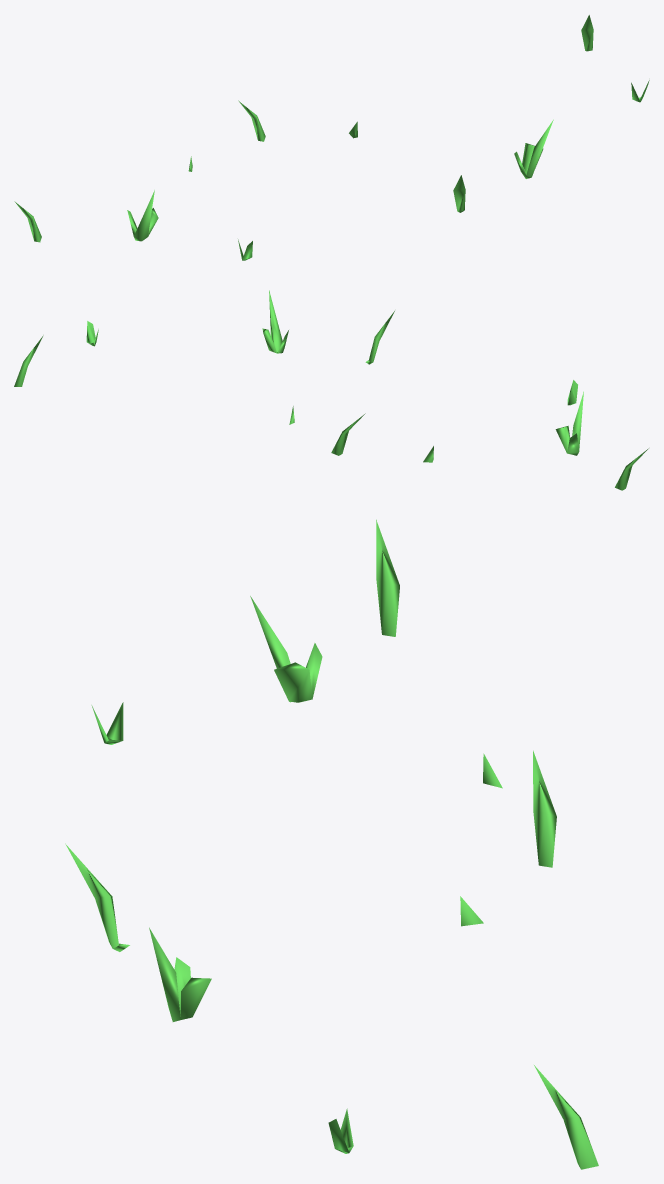
File: grass.fbx
3 views of the same model, one above another, from view 1: azimuth 30°, elevation 25°; view 2: azimuth 150°, elevation 25°; view 3: azimuth 270°, elevation 25° (orthographic). The views are drawn at different scales.
Visible parts, largest first — view 1: grass1_4; view 2: grass1_4; view 3: grass1_4.
Boxes of the visible parts, bbox=[...] form: grass1_4: bbox=[14, 15, 649, 260]; grass1_4: bbox=[14, 290, 648, 490]; grass1_4: bbox=[65, 519, 598, 1169].
Bounding box in the file's own units: 5.51 × 0.5262 × 2.19.
1 material, 1 textured.
